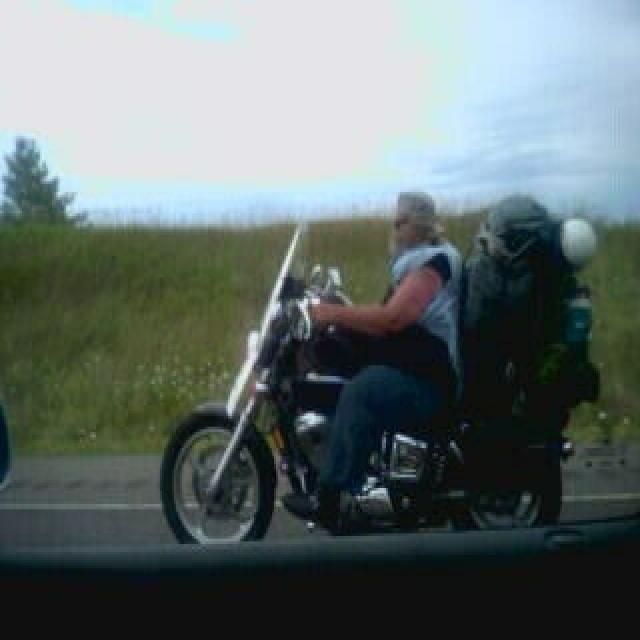motor: (159, 226, 602, 544)
